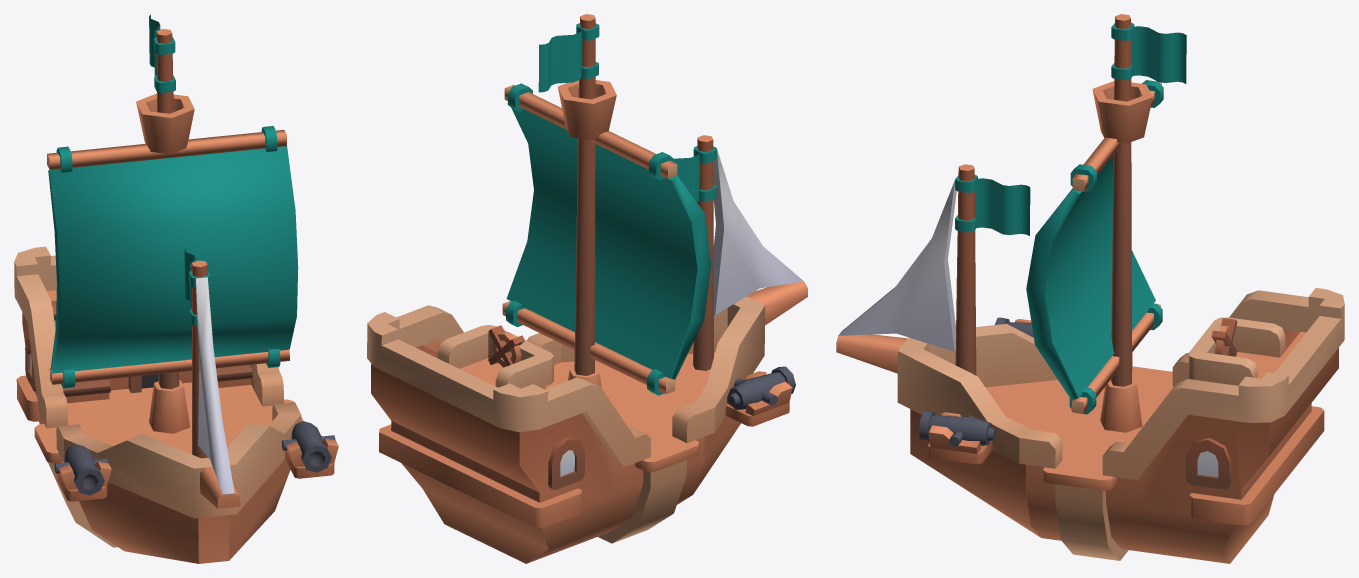
The model's file is ship-scout.glb.
3 renders of one model, left to right at view 1: azimuth 30°, elevation 25°; view 2: azimuth 150°, elevation 25°; view 3: azimuth 270°, elevation 25°, orthographic. The views are drawn at different scales.
Parts seen in each view (by area): view 1: sail-a.010, Hull + rigging.004, Cannon slot -1 0.004, Cannon slot 1 0.004, flag-b.007, flag-a.007; view 2: Hull + rigging.004, sail-a.010, flag-b.007, Cannon slot -1 0.004, flag-a.007, Group.046; view 3: Hull + rigging.004, sail-a.010, flag-b.007, flag-a.007, Cannon slot 1 0.004, Group.049.
Part boxes in pixels (<box>): sail-a.010: <box>47,126,298,388</box>; Hull + rigging.004: <box>14,29,303,563</box>; Cannon slot -1 0.004: <box>54,444,108,501</box>; Cannon slot 1 0.004: <box>281,421,335,478</box>; flag-b.007: <box>149,14,175,92</box>; flag-a.007: <box>184,248,211,326</box>; Hull + rigging.004: <box>367,14,807,563</box>; sail-a.010: <box>502,83,711,395</box>; flag-b.007: <box>538,23,599,92</box>; Cannon slot -1 0.004: <box>725,366,795,426</box>; flag-a.007: <box>674,146,716,202</box>; Group.046: <box>745,381,792,416</box>; Hull + rigging.004: <box>836,14,1344,563</box>; sail-a.010: <box>1026,80,1163,414</box>; flag-b.007: <box>1111,22,1186,83</box>; flag-a.007: <box>955,175,1030,235</box>; Cannon slot 1 0.004: <box>919,411,996,464</box>; Group.049: <box>929,425,980,453</box>.
Size of the model in its own units: 6 by 9.48 by 8.52.
3 materials, 2 textured.
